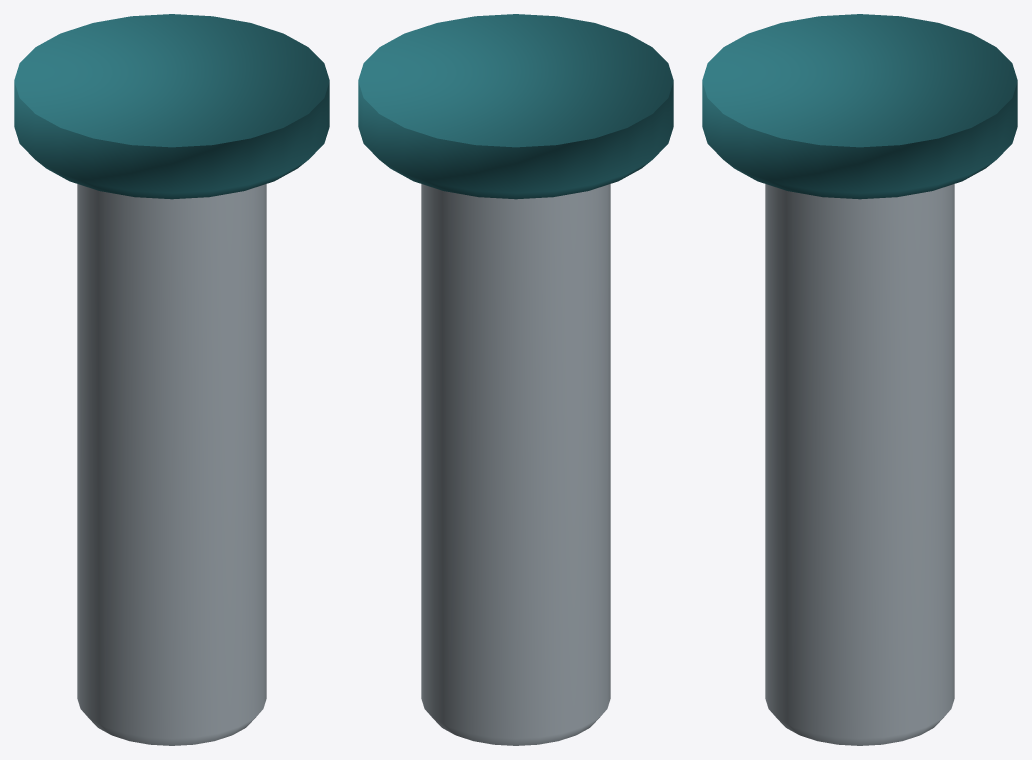
Rendered from VLAB_pins.fbx.
The picture shows the model from 3 angles, left to right: view 1: azimuth 30°, elevation 25°; view 2: azimuth 150°, elevation 25°; view 3: azimuth 270°, elevation 25°; orthographic projection.
Visible parts, largest first — view 1: VLAB_pins_Pin_VIS, VLAB_pins_Cap_VIS; view 2: VLAB_pins_Pin_VIS, VLAB_pins_Cap_VIS; view 3: VLAB_pins_Pin_VIS, VLAB_pins_Cap_VIS.
Boxes of the visible parts, left/top/right/bottom form: VLAB_pins_Pin_VIS: left=77, top=184, right=266, bottom=745; VLAB_pins_Cap_VIS: left=14, top=14, right=329, bottom=199; VLAB_pins_Pin_VIS: left=421, top=184, right=610, bottom=745; VLAB_pins_Cap_VIS: left=358, top=14, right=673, bottom=199; VLAB_pins_Pin_VIS: left=765, top=184, right=954, bottom=745; VLAB_pins_Cap_VIS: left=702, top=14, right=1017, bottom=199.
Bounding box in the file's own units: 0.01 × 0.022 × 0.01.
